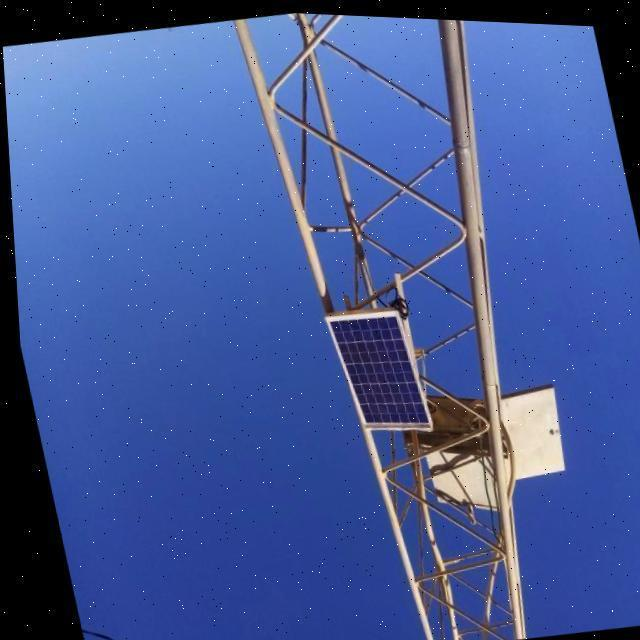Normal Solar Panel: (321, 303, 427, 438)
